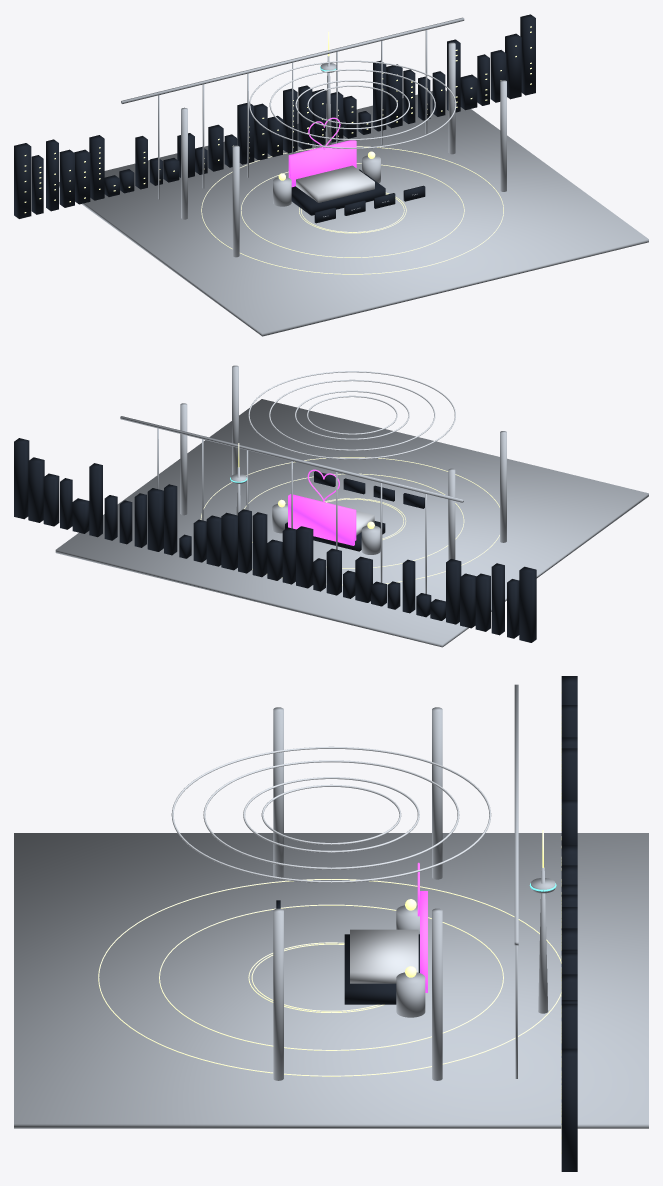
Rendered from singles.glb.
3 renders of one model, top to bottom at view 1: azimuth 30°, elevation 25°; view 2: azimuth 150°, elevation 25°; view 3: azimuth 270°, elevation 25°, orthographic. The views are drawn at different scales.
Visible parts, largest first — view 1: Reflective floor, Bed, Tufted headboard, Window lintel, Toronto skyline, Toronto skyline.034, Velvet platform, Toronto skyline.033, Toronto skyline.025, Toronto skyline.015, Toronto skyline.005, Ceiling light ring.003 (+30 smaller); view 2: Reflective floor, Tufted headboard, Window lintel, Toronto skyline, Toronto skyline.034, Toronto skyline.015, Toronto skyline.025, Toronto skyline.033, Toronto skyline.029, Toronto skyline.018, Toronto skyline.002, Toronto skyline.024 (+30 smaller); view 3: Reflective floor, Bed, Toronto skyline.034, Ceiling light ring.003, Chrome column.003, Chrome column.002, Chrome column.001, Chrome column, Ceiling light ring.002, Velvet platform, Architectural floor inlay.003, Window lintel (+9 smaller).
Boxes of the visible parts, box(x1,y1,x2,y2) form: Reflective floor: box(59, 90, 648, 336); Bed: box(296, 165, 374, 202); Tufted headboard: box(288, 140, 356, 187); Window lintel: box(121, 17, 464, 103); Toronto skyline: box(14, 143, 31, 218); Toronto skyline.034: box(520, 14, 535, 95); Velvet platform: box(291, 169, 385, 215); Toronto skyline.033: box(505, 33, 521, 99); Toronto skyline.025: box(386, 64, 402, 128); Toronto skyline.015: box(237, 102, 254, 164); Toronto skyline.005: box(89, 135, 104, 200); Ceiling light ring.003: box(249, 60, 456, 148); Reflective floor: box(55, 399, 648, 647); Tufted headboard: box(288, 494, 356, 545); Window lintel: box(120, 416, 463, 502); Toronto skyline: box(519, 566, 536, 642); Toronto skyline.034: box(14, 438, 29, 519); Toronto skyline.015: box(296, 526, 313, 588); Toronto skyline.025: box(147, 488, 163, 551); Toronto skyline.033: box(28, 457, 44, 522); Toronto skyline.029: box(89, 463, 102, 537); Toronto skyline.018: box(252, 512, 267, 577); Toronto skyline.002: box(491, 563, 504, 635); Toronto skyline.024: box(164, 484, 177, 555); Reflective floor: box(14, 833, 648, 1128); Bed: box(350, 929, 418, 983); Toronto skyline.034: box(561, 1048, 577, 1171); Ceiling light ring.003: box(171, 746, 491, 882); Chrome column.003: box(432, 908, 442, 1080); Chrome column.002: box(273, 908, 283, 1080); Chrome column.001: box(432, 707, 442, 879); Chrome column: box(273, 707, 283, 879); Ceiling light ring.002: box(203, 760, 459, 869); Velvet platform: box(344, 934, 419, 1004); Architectural floor inlay.003: box(98, 879, 561, 1076); Window lintel: box(514, 684, 518, 945).
Size of the model in its own units: 34.76 by 7.77 by 24.
